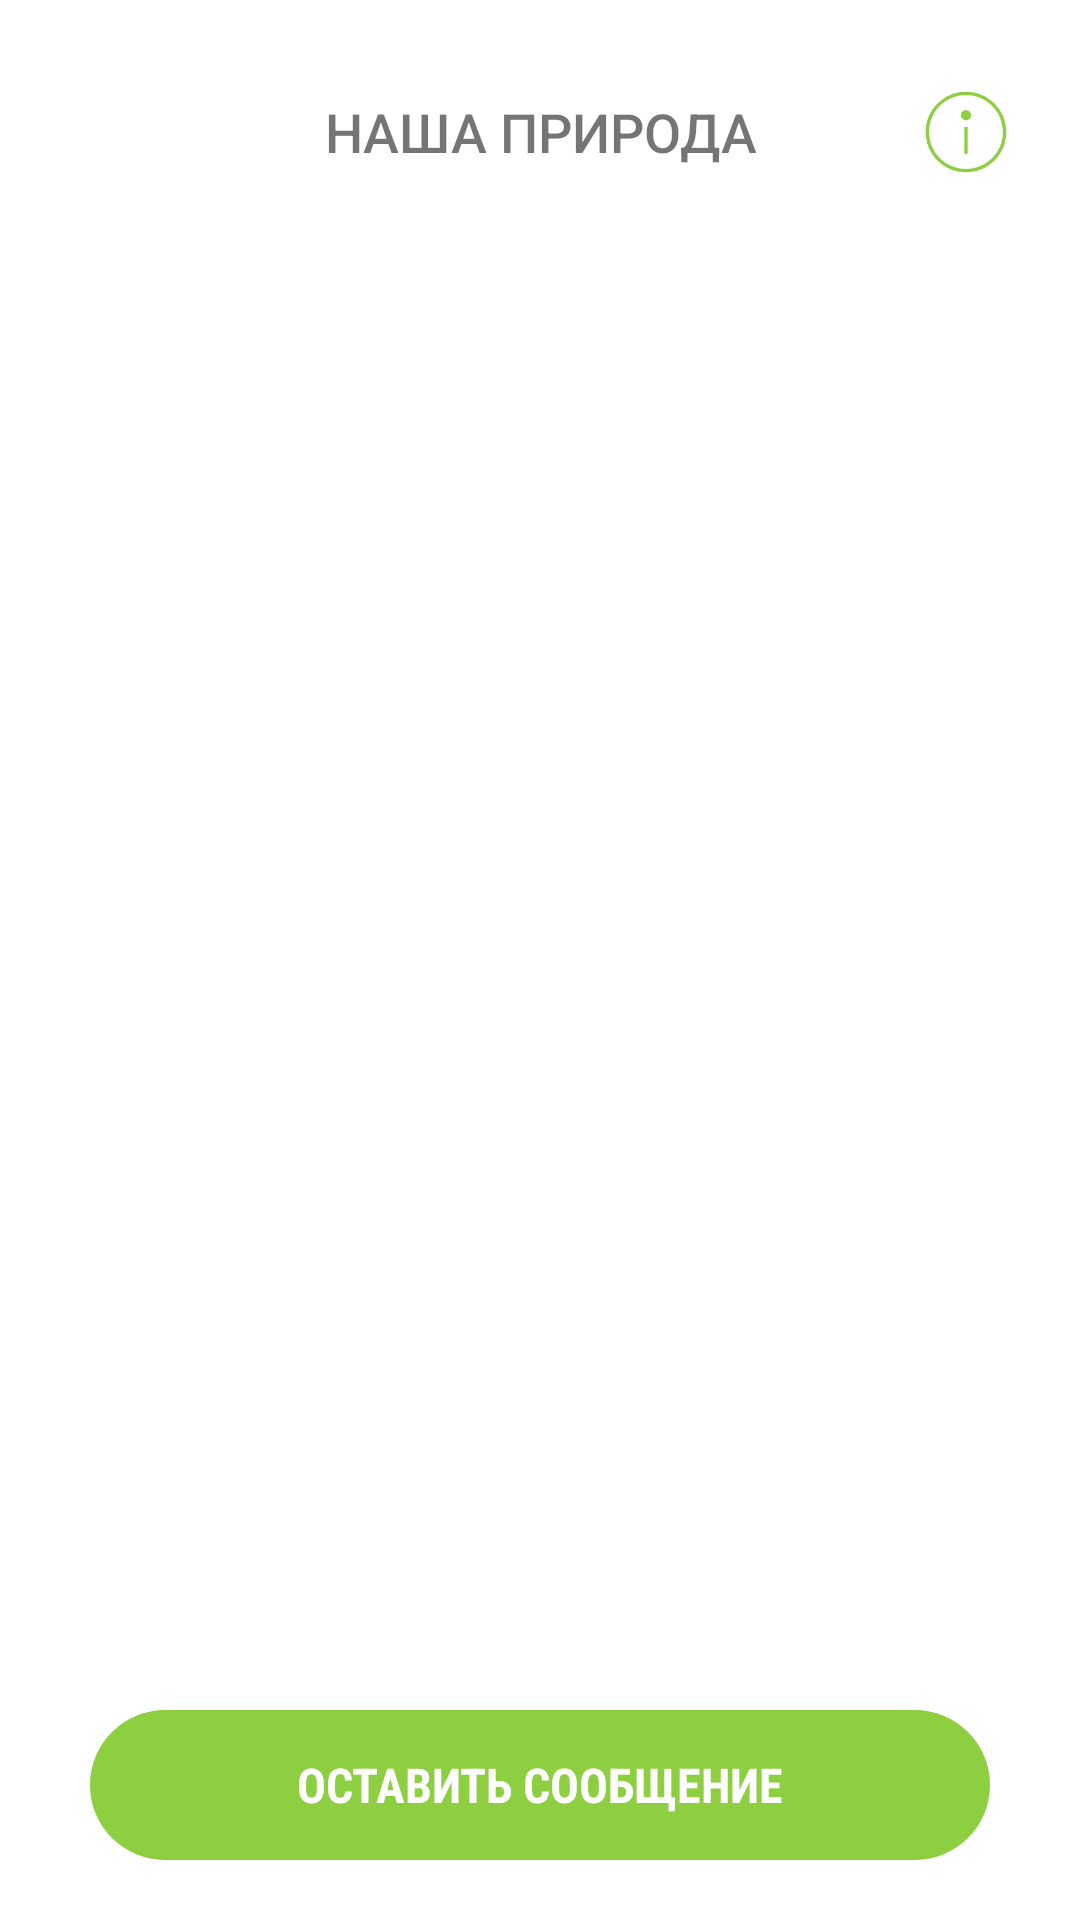

Screen size 1080 × 1920. Icon name, then its box in pixels as (x1, y1, x2, y2):
info: (925, 91, 1007, 173)
